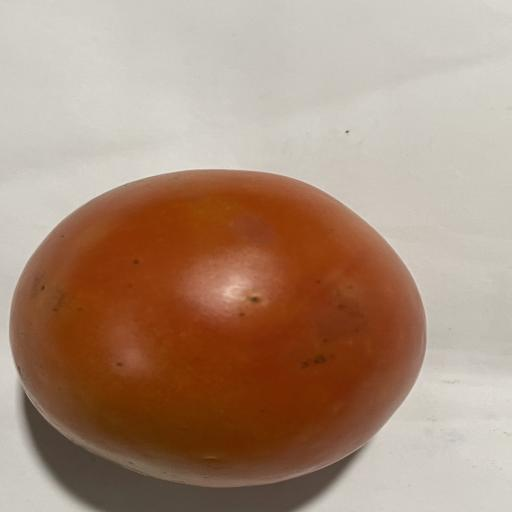ripe: (10, 170, 425, 487)
